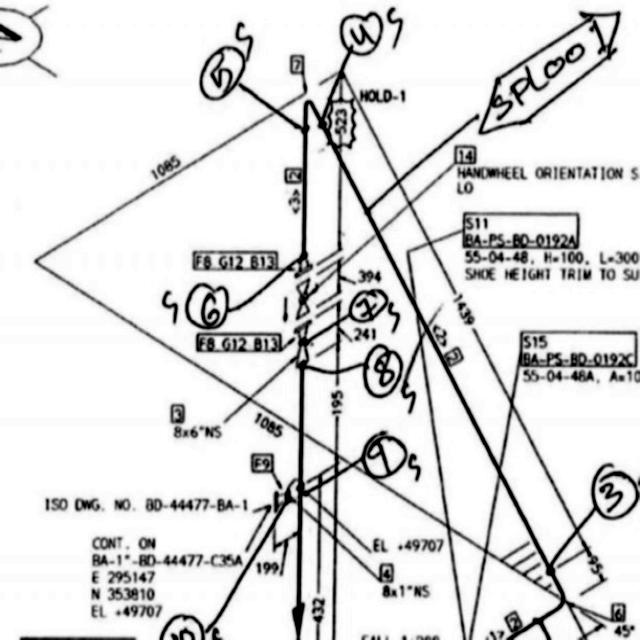Item number: (460, 206, 581, 250), (520, 329, 640, 369), (193, 329, 283, 355), (190, 248, 280, 274), (249, 449, 276, 475), (441, 343, 466, 371), (453, 142, 479, 165), (502, 608, 524, 635), (608, 600, 628, 623), (289, 51, 307, 76), (170, 400, 188, 425), (283, 164, 302, 184), (379, 562, 395, 584)
Measrement: (335, 68, 597, 557), (515, 7, 613, 96), (327, 341, 345, 639), (309, 469, 328, 639), (334, 255, 386, 298), (580, 542, 612, 586), (336, 323, 381, 346), (380, 583, 434, 601), (255, 557, 288, 580), (173, 425, 226, 439), (613, 622, 636, 638)
Pipeline: (299, 95, 571, 639), (290, 368, 311, 639)
Symbol: (530, 562, 569, 630), (270, 474, 308, 516), (297, 92, 330, 138), (291, 322, 318, 370), (289, 276, 316, 321), (288, 599, 312, 640), (291, 251, 317, 280)
Weld number: (195, 41, 249, 104), (587, 460, 639, 525), (357, 429, 411, 482), (359, 340, 404, 402), (336, 8, 387, 61), (183, 279, 230, 331), (344, 286, 395, 325), (155, 610, 208, 639)
other: (88, 533, 247, 617), (514, 324, 638, 387), (462, 247, 639, 287), (453, 165, 640, 196), (41, 494, 252, 514), (370, 537, 451, 554), (359, 86, 407, 107)
